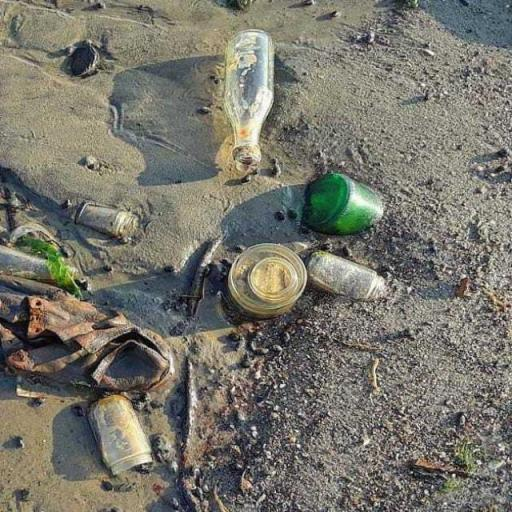glass: (204, 22, 286, 204), (288, 170, 387, 240), (300, 250, 388, 316)
